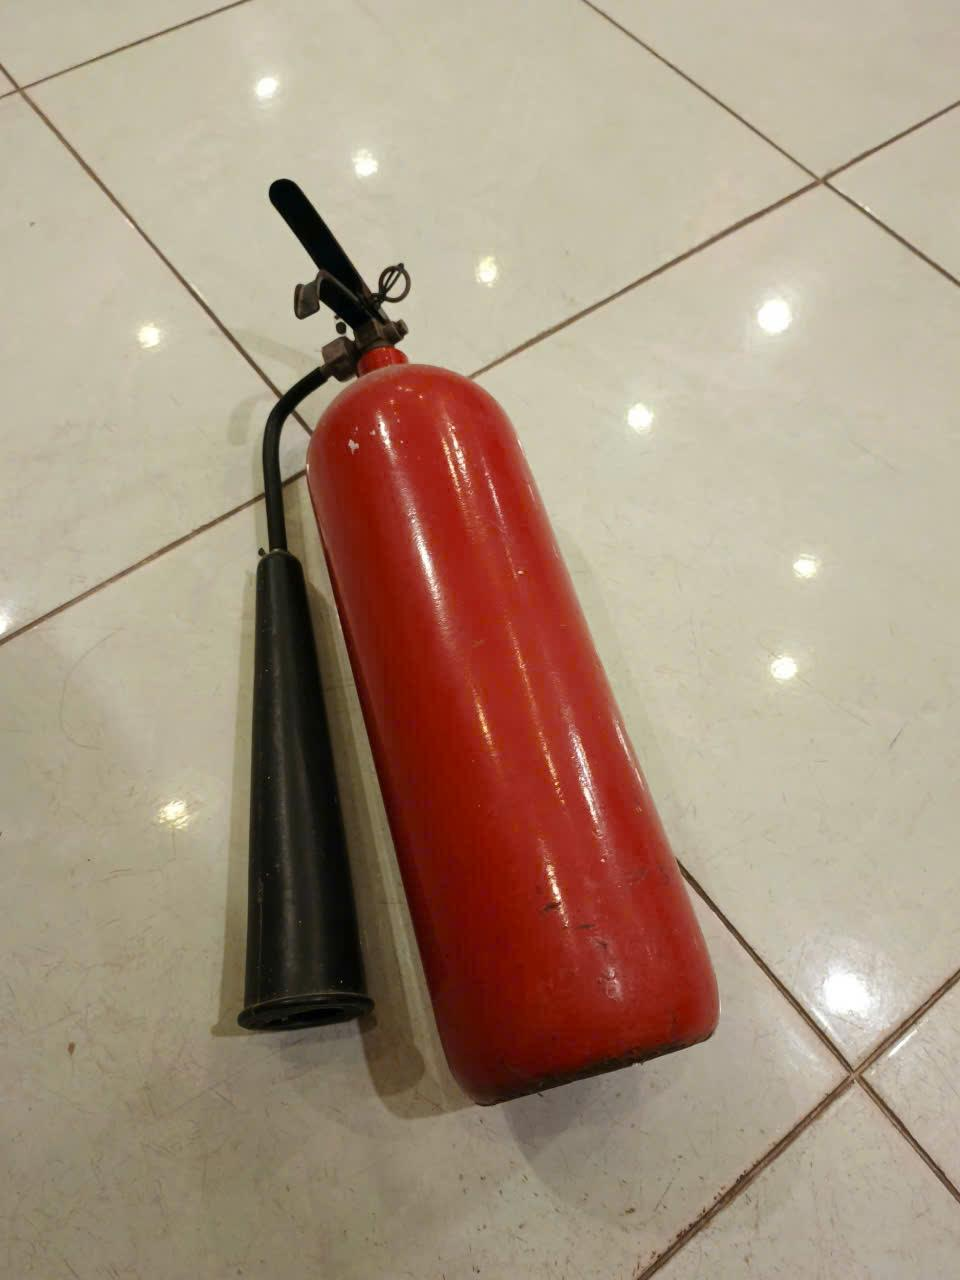Con lai: (230, 175, 720, 1109)
